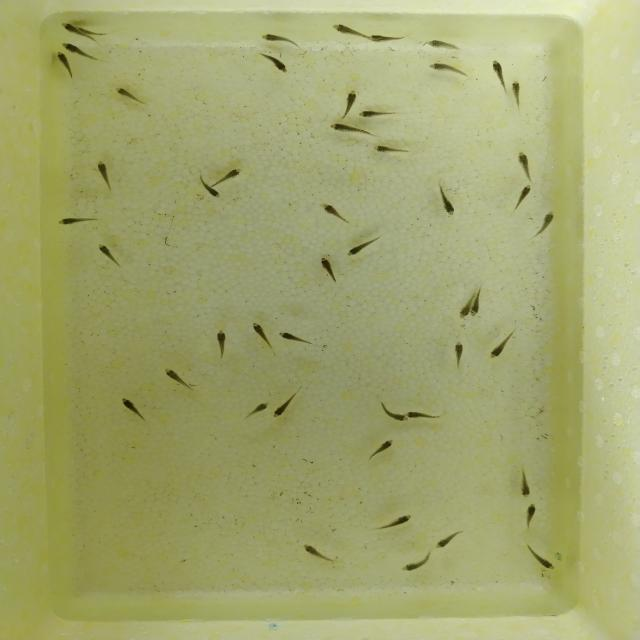fingerling: (88, 156, 115, 184), (157, 365, 191, 386), (317, 254, 342, 280), (419, 36, 455, 54), (394, 407, 440, 421), (210, 327, 235, 350), (266, 402, 292, 424), (532, 550, 558, 572), (455, 292, 474, 322), (219, 163, 245, 184), (370, 435, 402, 452), (318, 200, 346, 219), (396, 558, 434, 572), (385, 513, 418, 529), (329, 120, 364, 135), (326, 22, 358, 38), (436, 197, 459, 219), (514, 474, 535, 498), (424, 60, 462, 73), (342, 86, 361, 112), (490, 334, 509, 360), (115, 395, 141, 414), (490, 56, 508, 83), (298, 537, 321, 558), (514, 182, 538, 202), (514, 149, 535, 171), (52, 49, 76, 68), (52, 216, 97, 226), (277, 329, 305, 345), (258, 32, 292, 45), (95, 240, 116, 261), (110, 86, 141, 100), (430, 534, 461, 548), (538, 208, 559, 228), (203, 182, 224, 202), (356, 107, 388, 120), (247, 320, 271, 337), (58, 41, 88, 54), (344, 241, 370, 256), (57, 21, 84, 35), (510, 76, 524, 102), (269, 58, 290, 75), (386, 407, 407, 424), (249, 399, 274, 413), (525, 502, 539, 526), (468, 296, 484, 316), (454, 339, 464, 370), (369, 34, 398, 44), (373, 145, 401, 155)
